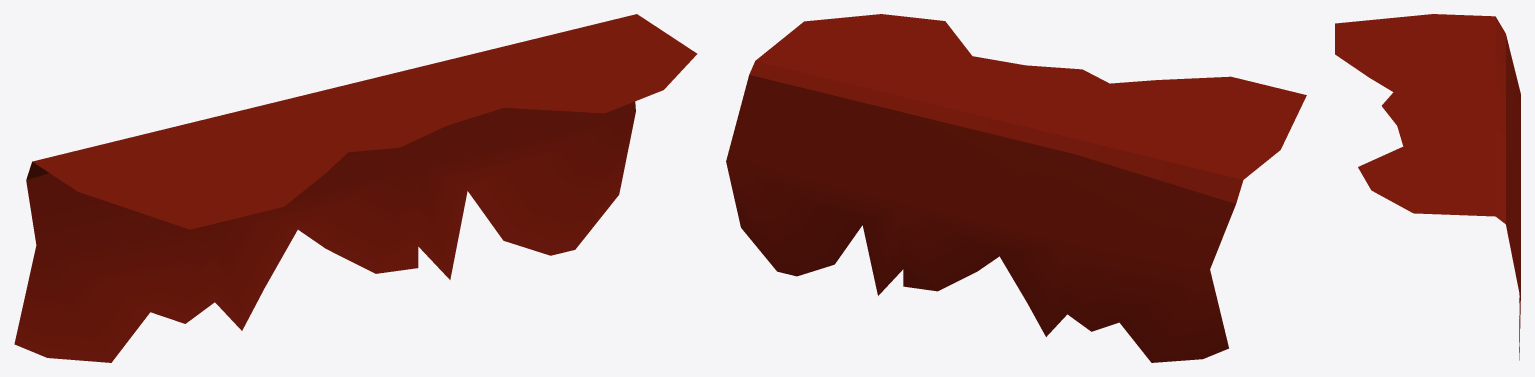
The model's file is Lo-Sha_Coral1.fbx.
3 views of the same model, side by side, from view 1: azimuth 30°, elevation 25°; view 2: azimuth 150°, elevation 25°; view 3: azimuth 270°, elevation 25° (orthographic). The views are drawn at different scales.
Visible parts, largest first — view 1: Coral1; view 2: Coral1; view 3: Coral1.
Boxes of the visible parts, left/top/right/bottom form: Coral1: left=14, top=14, right=697, bottom=362; Coral1: left=726, top=14, right=1306, bottom=362; Coral1: left=1335, top=14, right=1520, bottom=360.
Bounding box in the file's own units: 90.29 × 34.15 × 34.39.
1 material, 1 textured.
